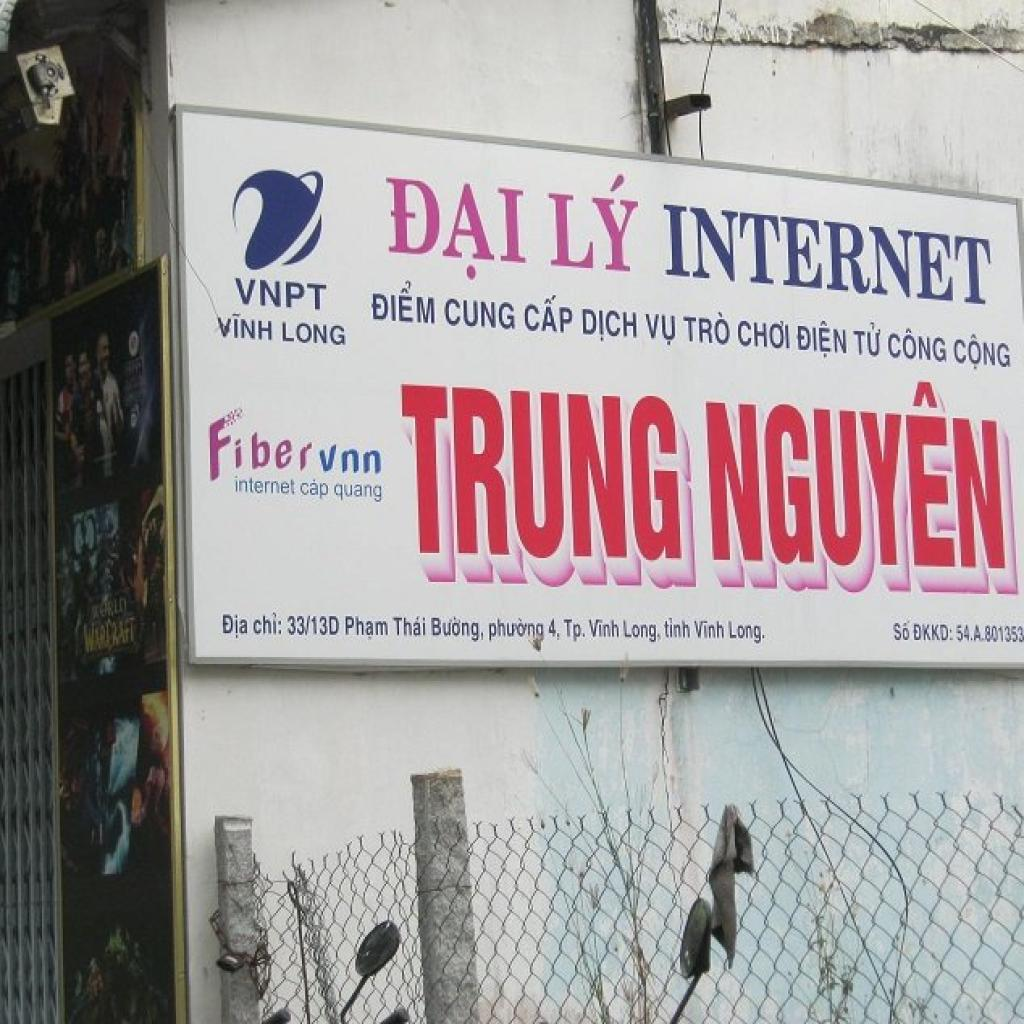text: (699, 367, 1021, 596), (396, 379, 699, 594), (661, 198, 998, 309), (380, 171, 532, 285), (203, 410, 391, 481), (544, 166, 644, 276), (233, 277, 331, 314), (370, 278, 438, 328), (885, 324, 950, 365), (443, 294, 515, 331), (79, 614, 139, 657), (952, 331, 1014, 372), (523, 292, 577, 338), (796, 319, 848, 364), (681, 307, 735, 350), (213, 309, 275, 345), (582, 306, 642, 343), (737, 316, 793, 352), (954, 619, 1024, 646), (430, 613, 486, 645), (484, 616, 546, 644), (286, 611, 342, 640), (341, 611, 391, 643), (850, 319, 884, 364), (333, 478, 384, 507), (644, 309, 680, 350), (86, 594, 130, 623), (620, 618, 662, 648), (725, 618, 766, 648), (221, 606, 254, 643), (250, 606, 284, 640), (232, 480, 298, 496), (911, 622, 956, 644), (394, 613, 430, 640), (690, 616, 725, 642), (586, 616, 622, 640), (297, 480, 330, 505), (562, 615, 588, 645), (662, 616, 691, 640), (546, 614, 564, 642), (892, 622, 912, 644)
